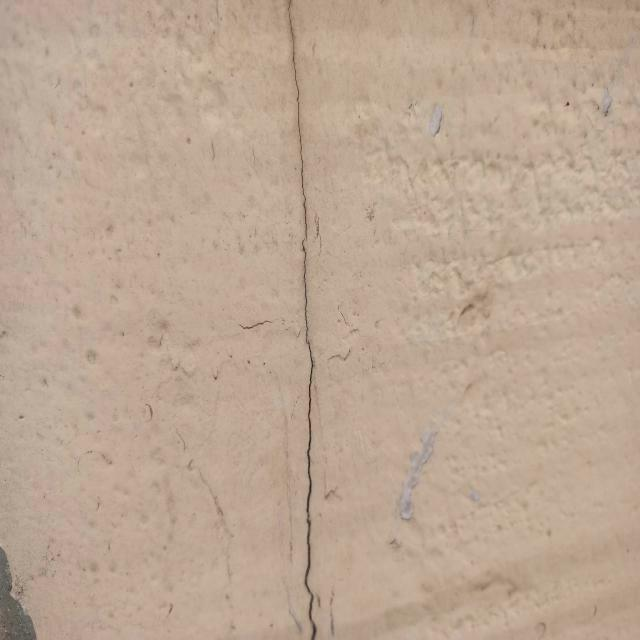SurfaceCrack: (236, 0, 371, 639)
